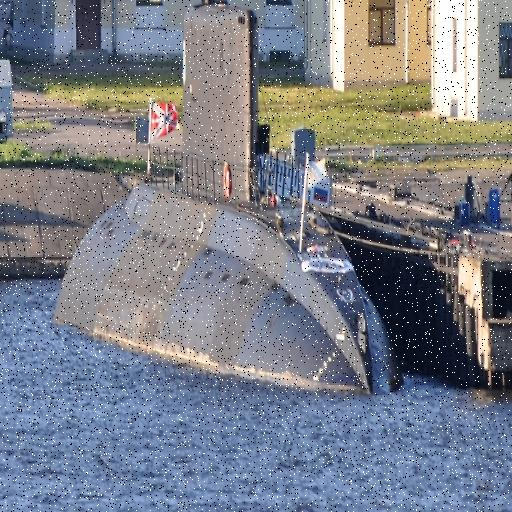submarine: (48, 1, 406, 392)
